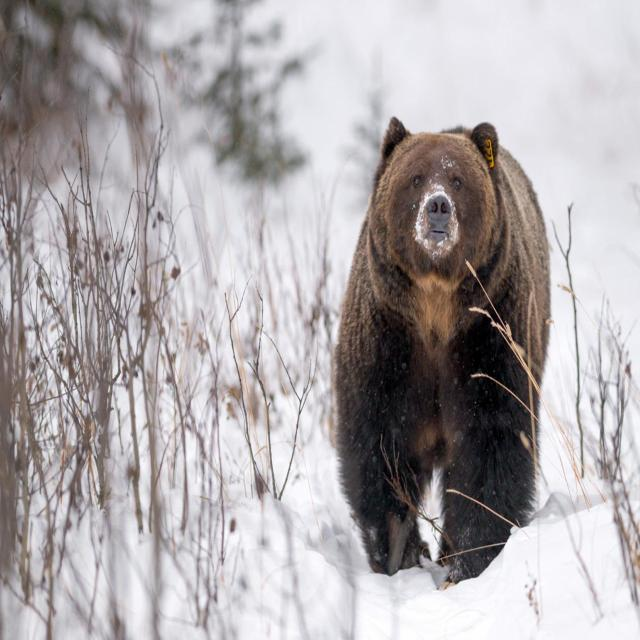Bear: (334, 119, 553, 591)
